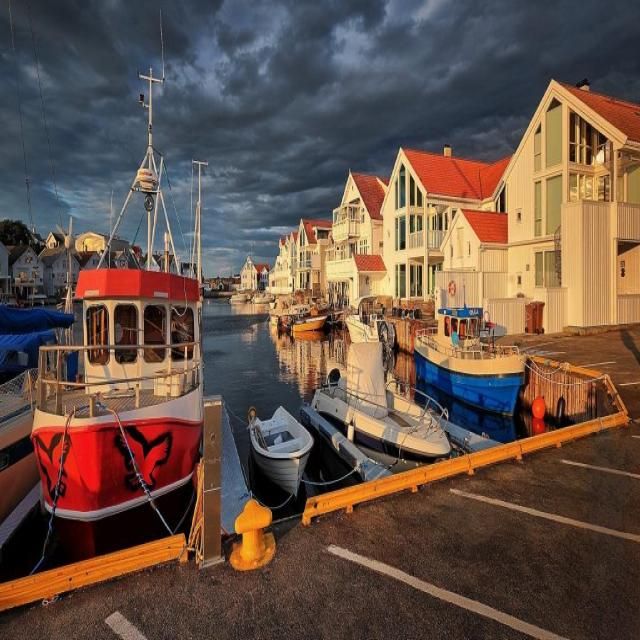houseboat: (21, 281, 197, 524), (411, 308, 521, 420)
